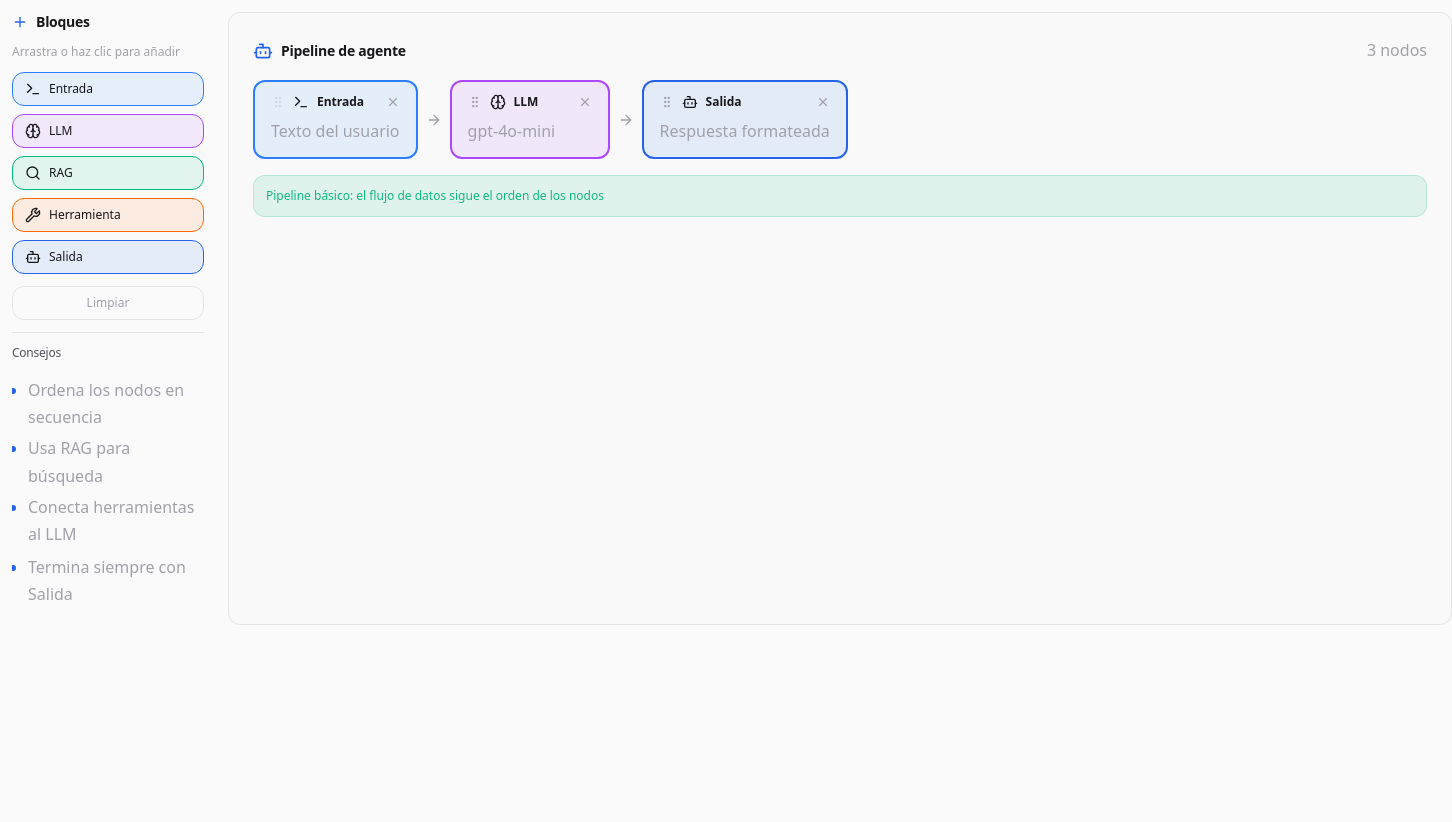
Test: AgentFlow › permite limpiar el pipeline y volver al inicial
Click the button "RAG": point(108, 173) [12,156,204,190]
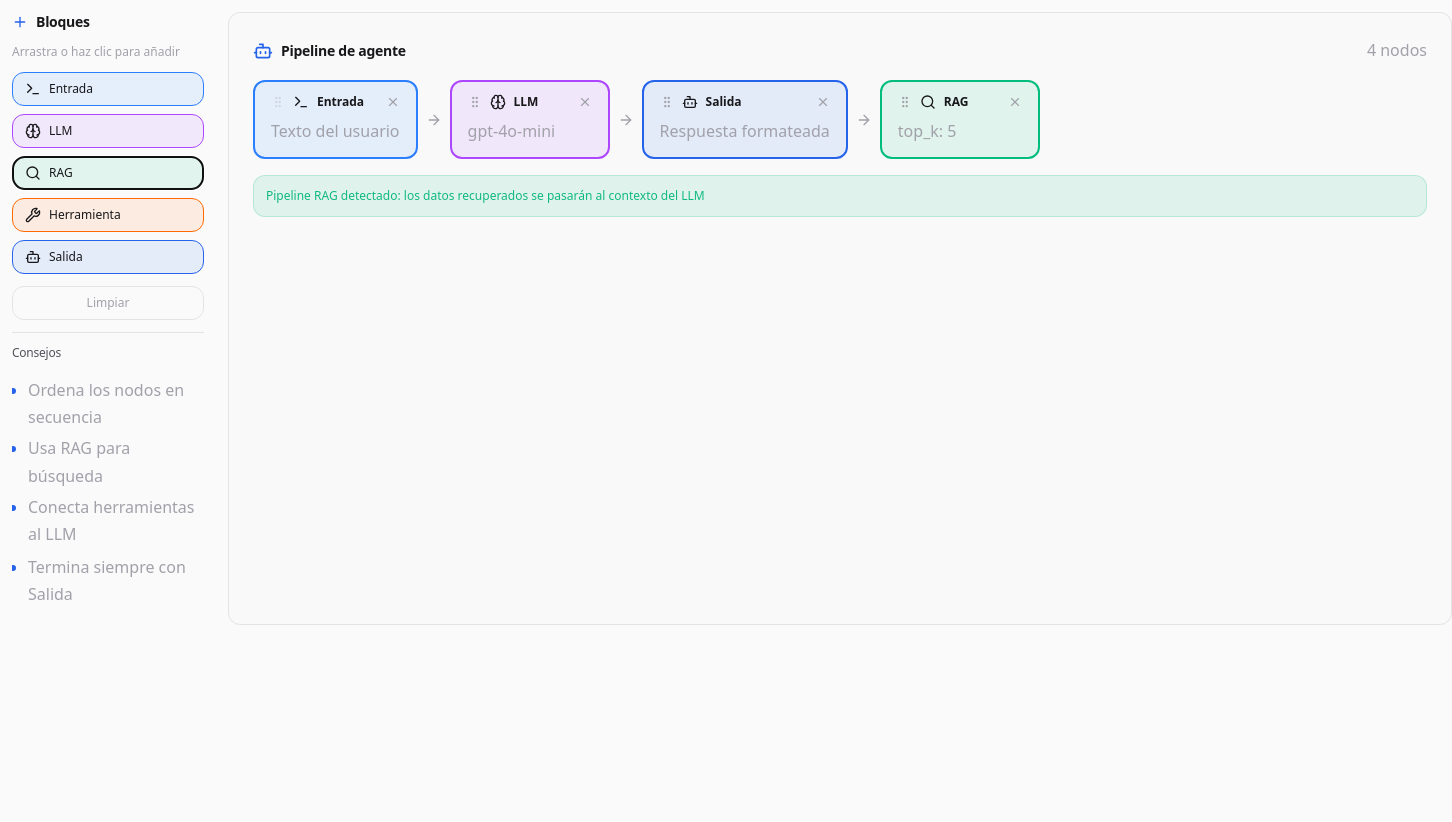
expect the button "top_k: 5" is shown: met, box [898,118,1022,145]
Click the button "Limpiar": point(108, 303) [12,286,204,320]
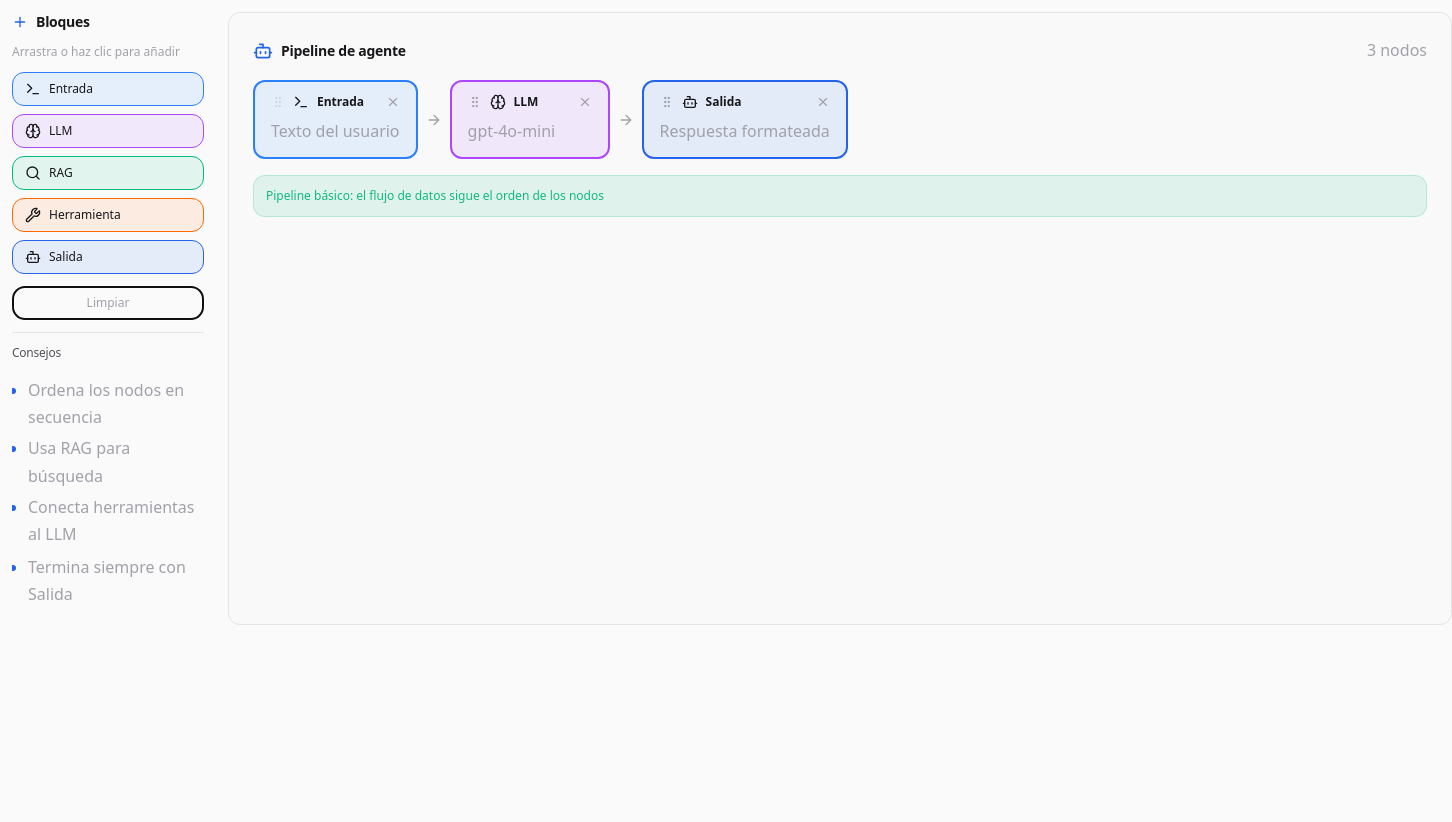
expect the button "top_k: 5" is gone: met
expect the text "3 nodos" is shown: met, box [1367,37,1427,64]
